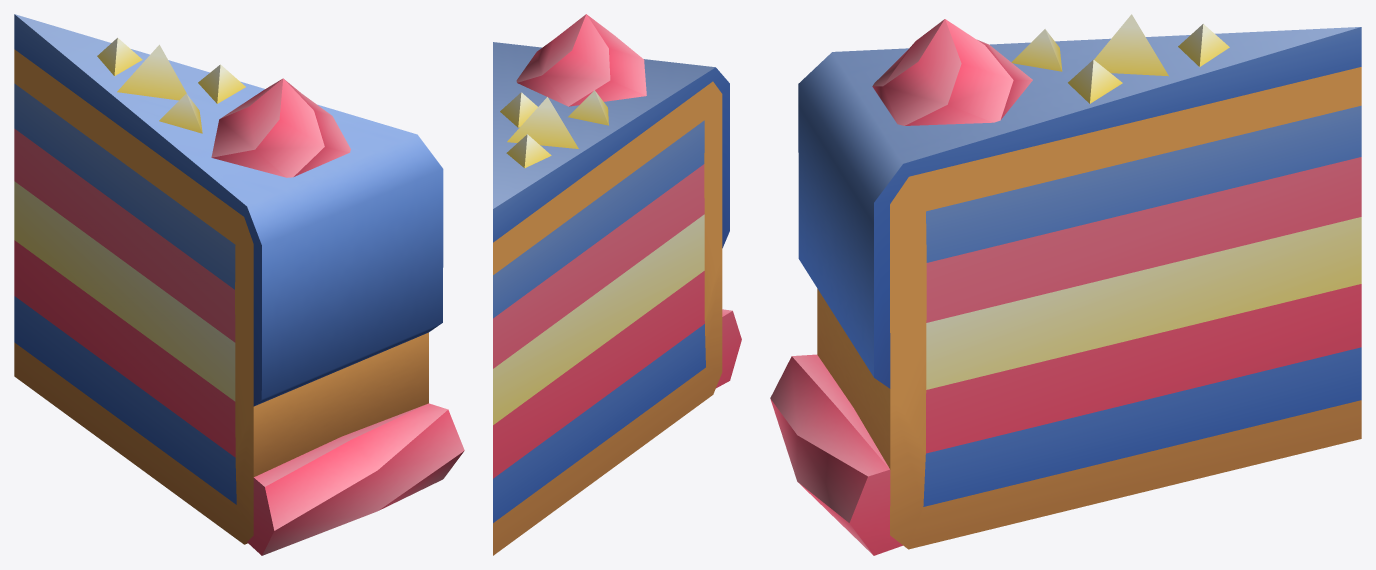
Rendered from m_TransCake01_Slice01.fbx.
3 views of the same model, side by side, from view 1: azimuth 30°, elevation 25°; view 2: azimuth 150°, elevation 25°; view 3: azimuth 270°, elevation 25° (orthographic). The views are drawn at different scales.
Parts seen in each view (by area): view 1: m_TransCake01_Slice01; view 2: m_TransCake01_Slice01; view 3: m_TransCake01_Slice01.
Boxes of the visible parts, box(x1,y1,x2,y2) form: m_TransCake01_Slice01: box(14, 14, 464, 555); m_TransCake01_Slice01: box(493, 14, 741, 555); m_TransCake01_Slice01: box(770, 14, 1361, 555).
Size of the model in its own units: 7.6 by 13.31 by 15.21.
